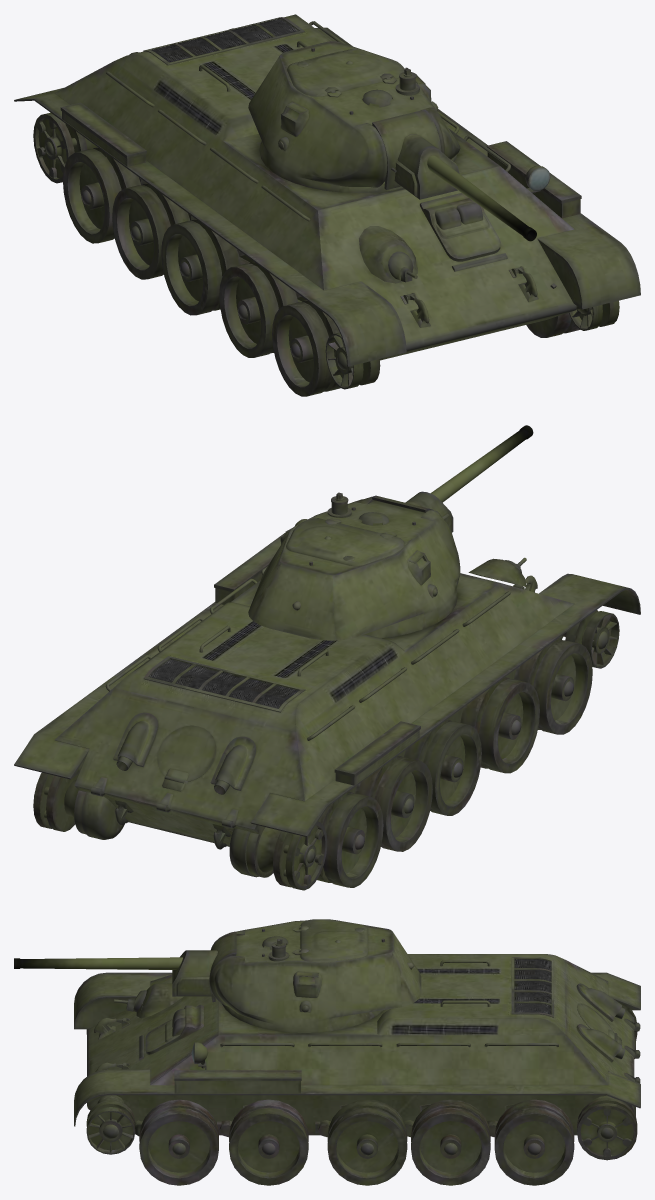
3 renders of one model, top to bottom at view 1: azimuth 30°, elevation 25°; view 2: azimuth 150°, elevation 25°; view 3: azimuth 270°, elevation 25°, orthographic. The views are drawn at different scales.
Parts seen in each view (by area): view 1: Wanne, turret, radL3, radL4, radL5, radL1, radL2, cannon, radL0, radL6, radR6, radR5; view 2: Wanne, turret, radL4, radL5, radL1, radL0, radL2, radL3, radR0, radL6, cannon; view 3: Wanne, turret, radR1, radR2, radR3, radR5, radR4, radR0, radR6, cannon.
Boxes of the visible parts, bbox=[...] form: Wanne: bbox=[14, 14, 640, 366]; turret: bbox=[248, 41, 460, 199]; radL3: bbox=[161, 219, 249, 315]; radL4: bbox=[219, 261, 301, 357]; radL5: bbox=[272, 300, 340, 396]; radL1: bbox=[63, 147, 146, 243]; radL2: bbox=[112, 183, 195, 279]; cannon: bbox=[417, 147, 536, 241]; radL0: bbox=[33, 112, 97, 183]; radL6: bbox=[325, 332, 380, 389]; radR6: bbox=[569, 300, 619, 330]; radR5: bbox=[526, 312, 579, 337]; Wanne: bbox=[14, 519, 640, 849]; turret: bbox=[248, 491, 460, 640]; radL4: bbox=[460, 677, 539, 773]; radL5: bbox=[514, 638, 592, 734]; radL1: bbox=[317, 791, 383, 887]; radL0: bbox=[229, 821, 327, 890]; radL2: bbox=[354, 755, 432, 851]; radL3: bbox=[403, 719, 481, 815]; radR0: bbox=[33, 772, 125, 839]; radL6: bbox=[561, 610, 619, 668]; cannon: bbox=[430, 425, 533, 502]; Wanne: bbox=[74, 954, 640, 1137]; turret: bbox=[172, 919, 421, 1032]; radR1: bbox=[494, 1099, 574, 1185]; radR2: bbox=[411, 1099, 490, 1185]; radR3: bbox=[327, 1099, 407, 1185]; radR5: bbox=[139, 1099, 221, 1185]; radR4: bbox=[229, 1099, 308, 1185]; radR0: bbox=[577, 1095, 637, 1160]; radR6: bbox=[86, 1095, 135, 1154]; cannon: bbox=[14, 950, 186, 983].
Size of the model in its own units: 3 by 2.35 by 6.55.
1 material, 1 textured.
